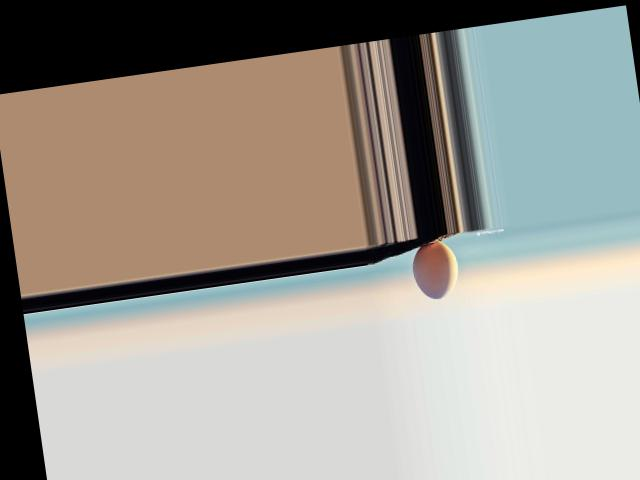egg: (409, 239, 462, 302)
